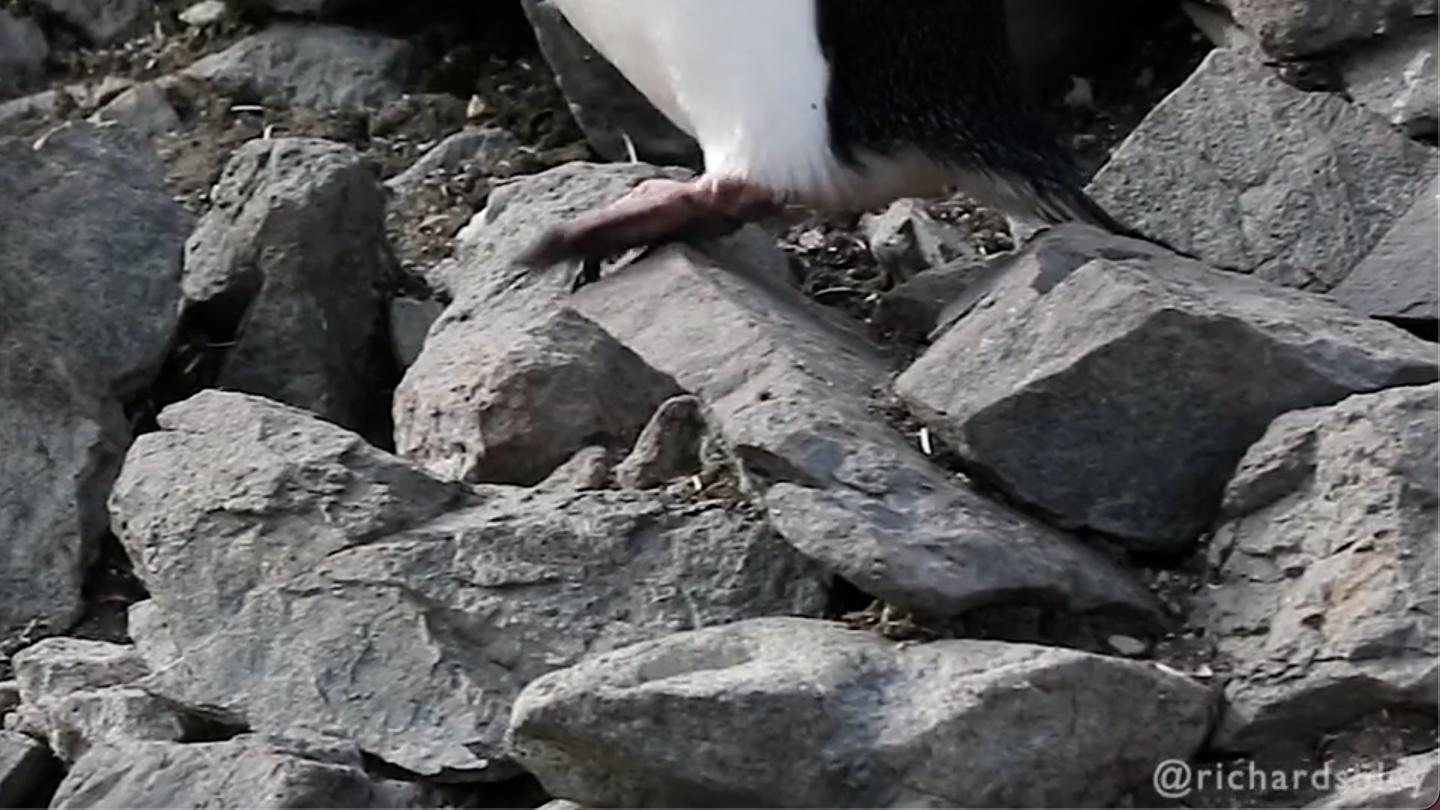Chinstrap Penguin: (0, 0, 1096, 250)
